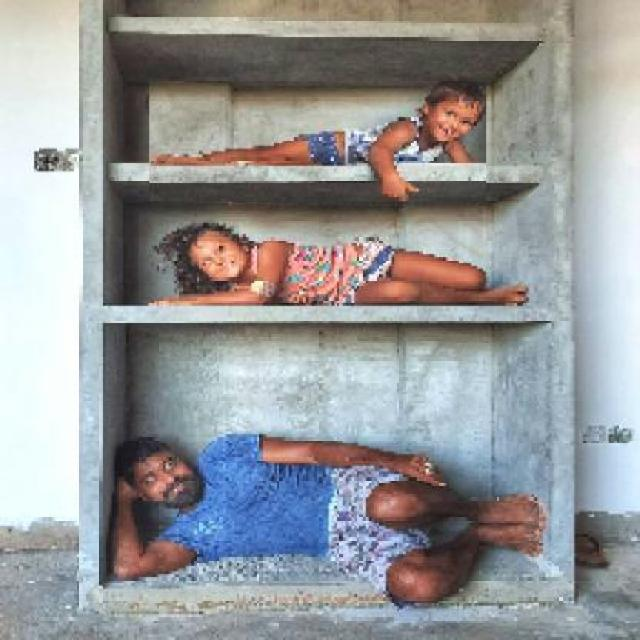child: (148, 80, 486, 203)
